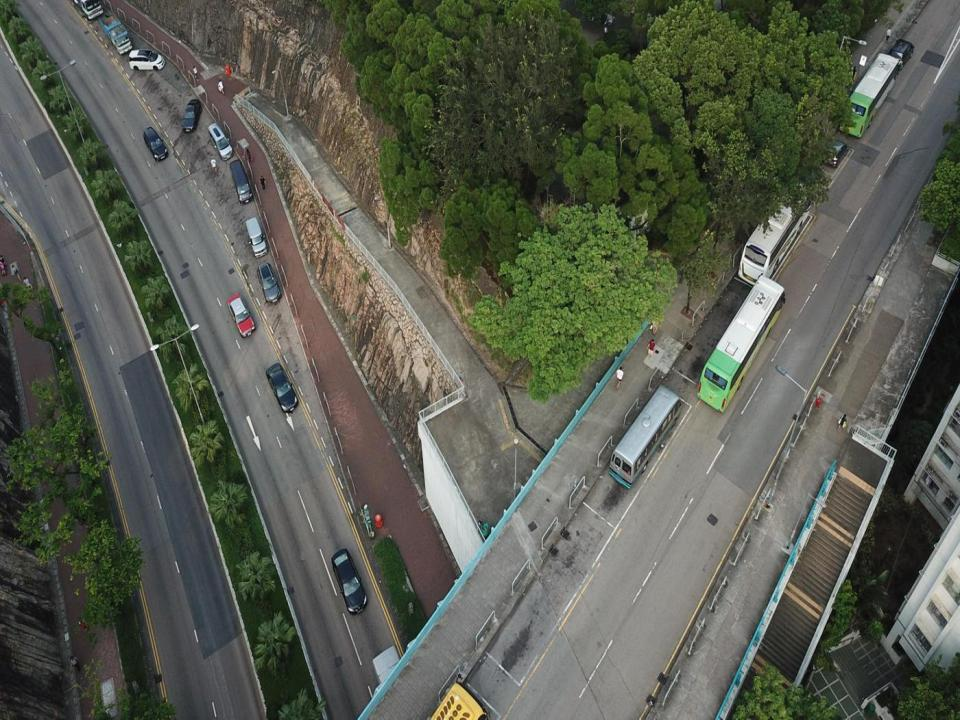bus: (697, 274, 786, 412), (738, 179, 812, 286), (608, 384, 681, 489), (839, 53, 899, 137)
car: (331, 548, 367, 614), (266, 363, 298, 412), (226, 293, 255, 337), (787, 165, 823, 200), (129, 49, 164, 70), (822, 139, 848, 167), (182, 99, 201, 132)
truck: (426, 673, 491, 719), (98, 10, 132, 56), (70, 0, 102, 20)
van: (257, 260, 281, 306), (229, 159, 253, 204), (208, 122, 232, 160), (143, 126, 168, 162), (246, 218, 268, 258), (889, 40, 914, 70)
